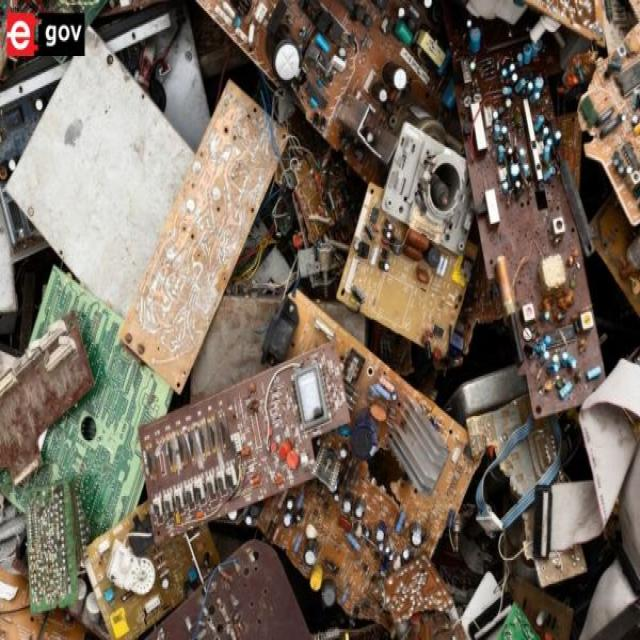Metal: (10, 19, 636, 640)
